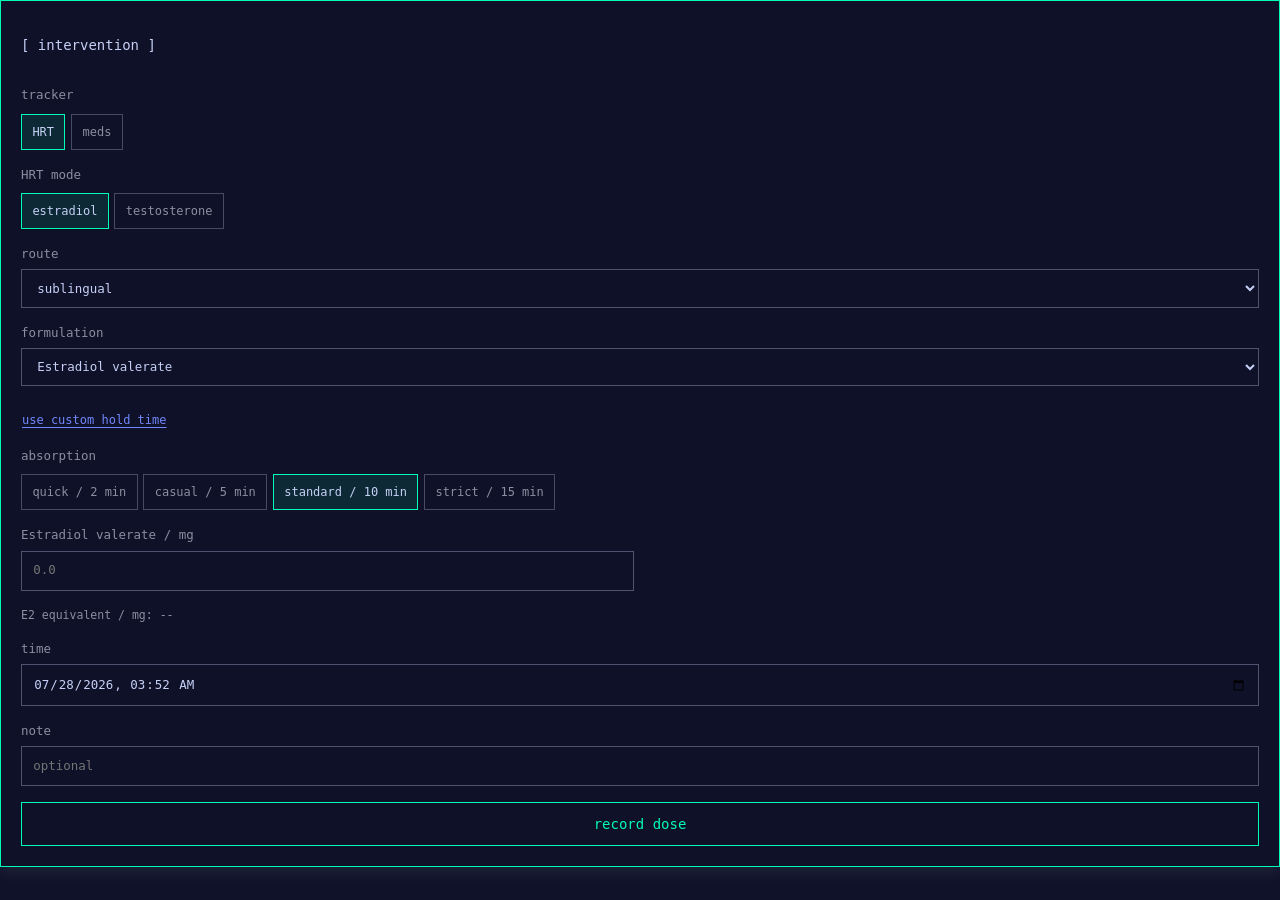
Scenario: HrtDoseForm route-dependent interactions › retains rate and total-dose values across the patch input toggle
Select "patch apply" in the dropdown labelled "route" at (640, 288), box [21,269,1259,308]
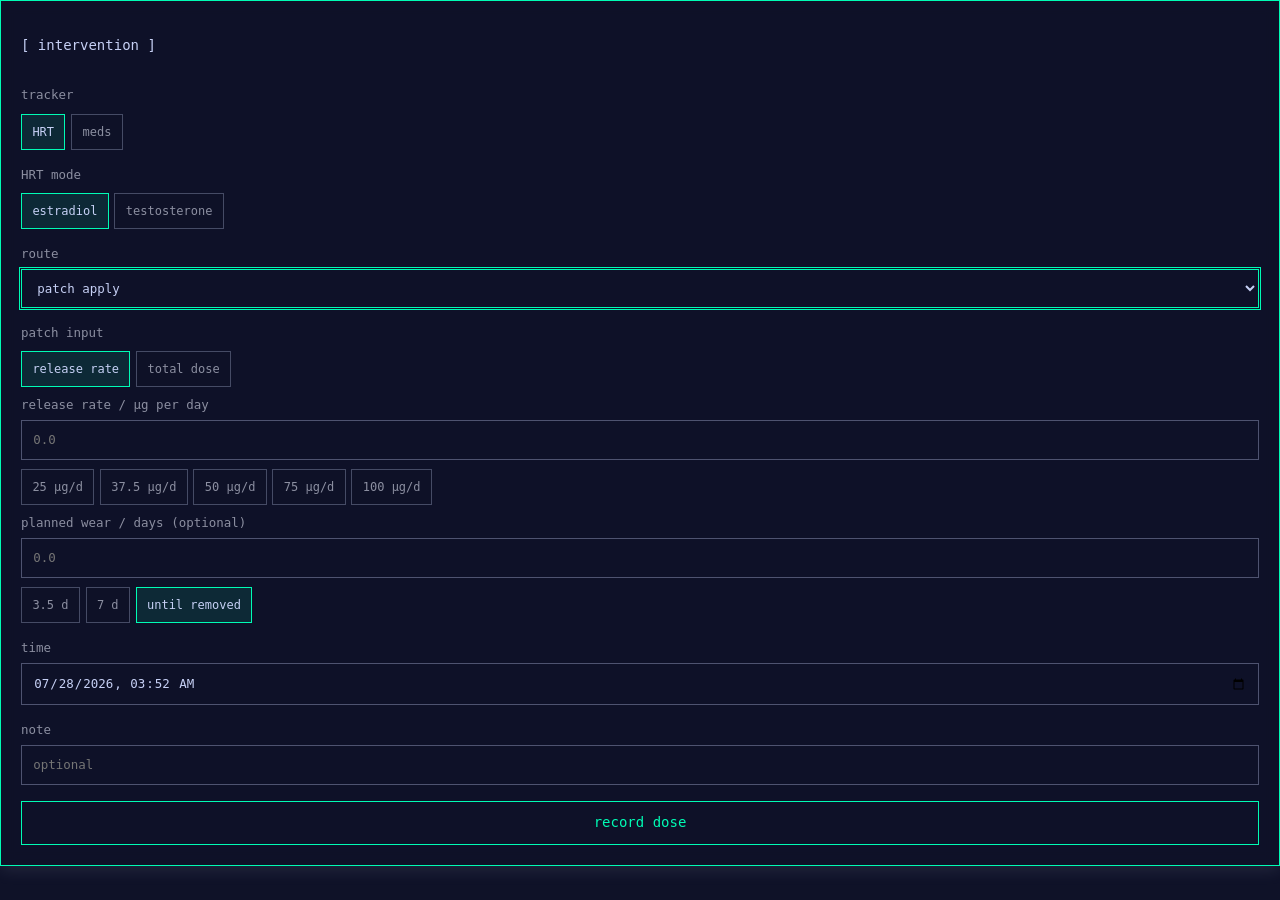
Type "50" into the number field labelled "release rate / µg per day" at (640, 440), box [21,420,1259,460]
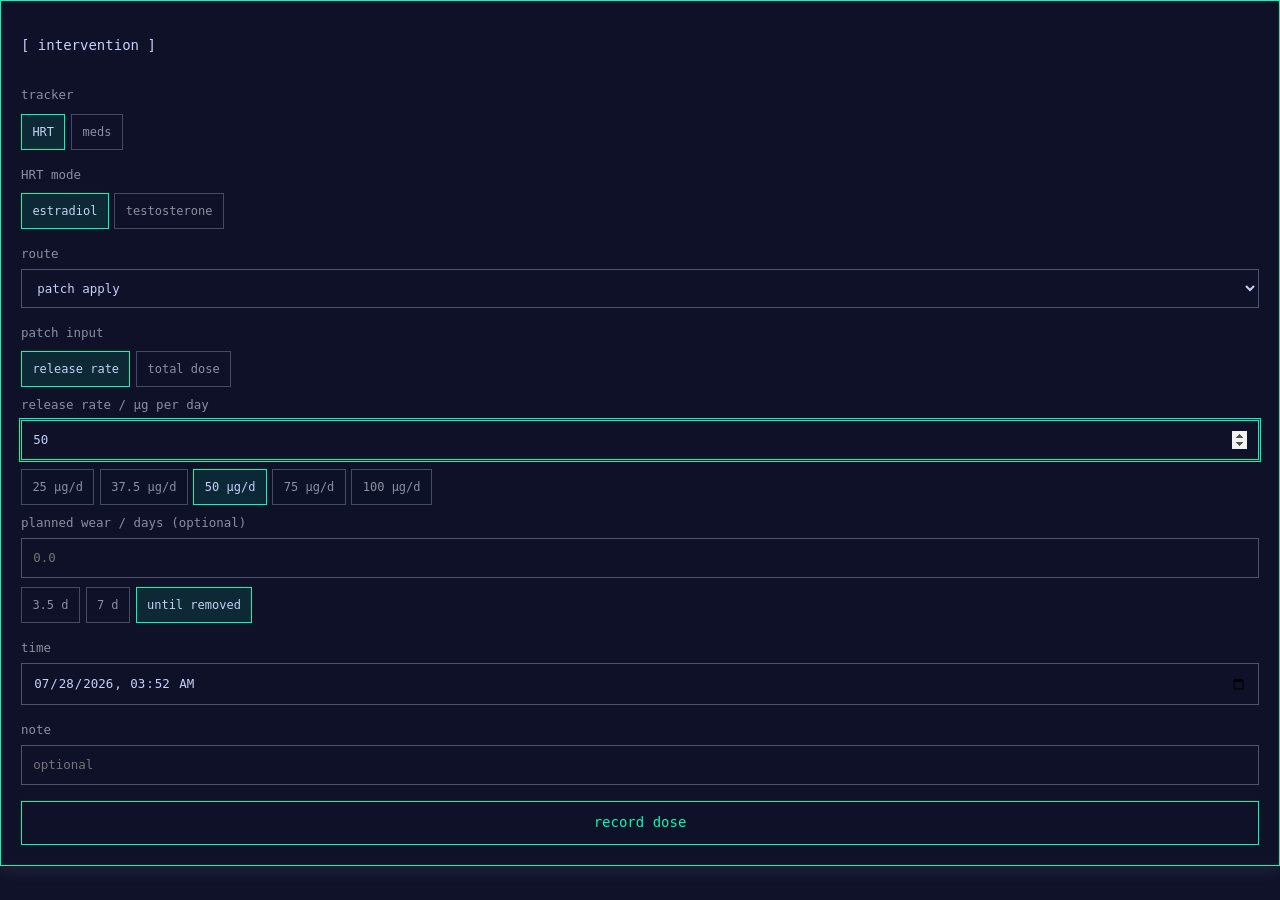
Click the button "total dose" at (184, 369), box [136,351,231,387]
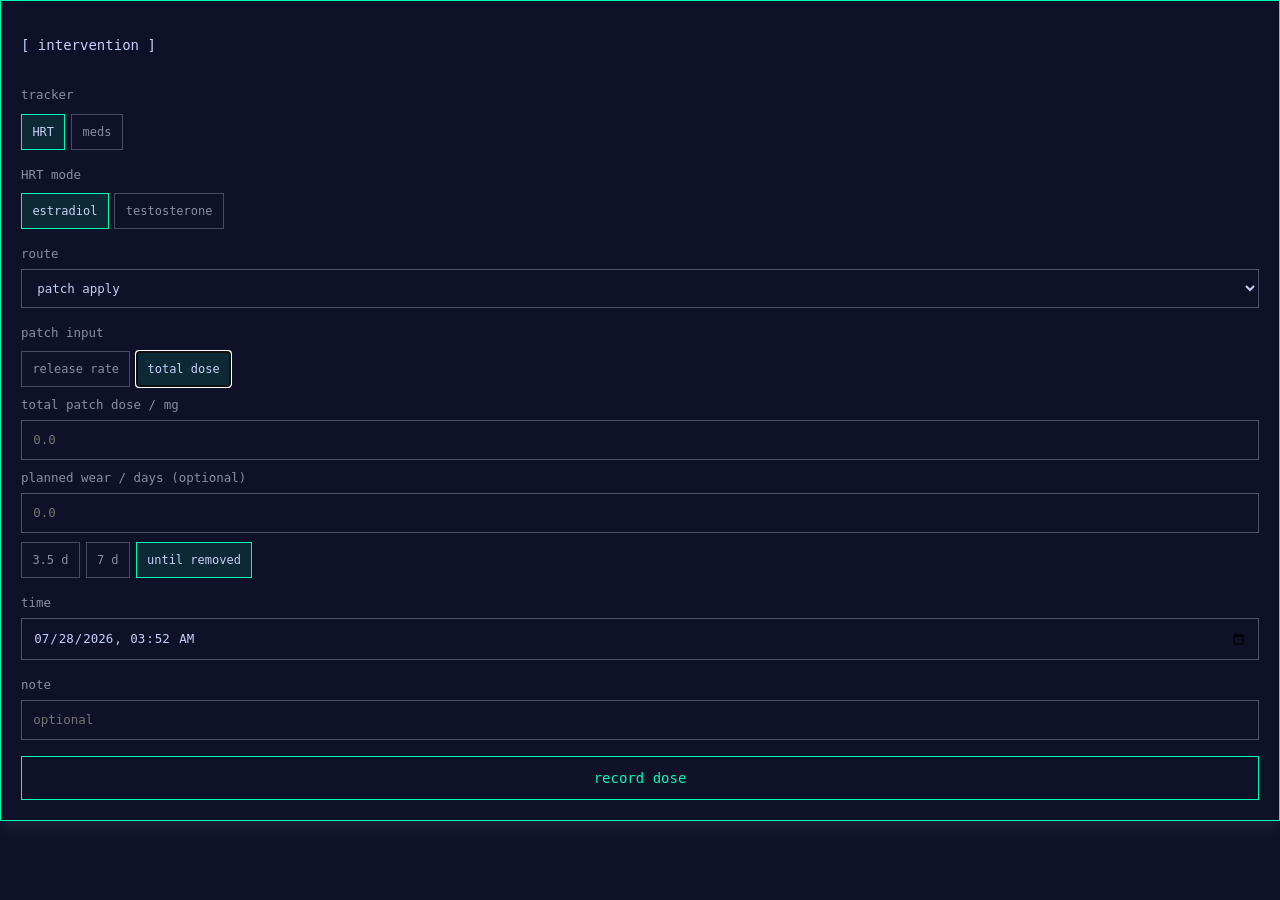
Type "4" into the number field labelled "total patch dose / mg" at (640, 440), box [21,420,1259,460]
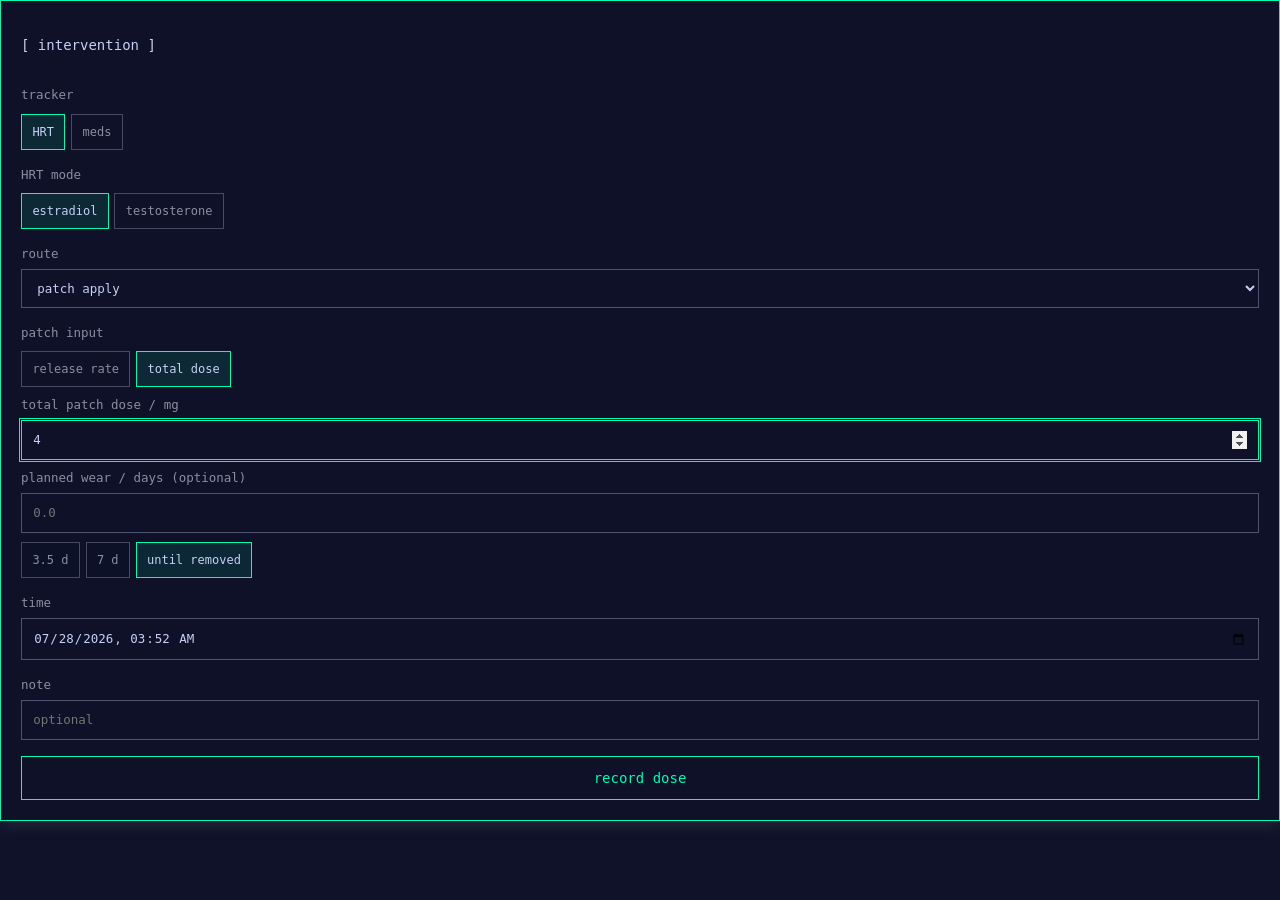
Click the button "release rate" at (76, 369), box [21,351,130,387]
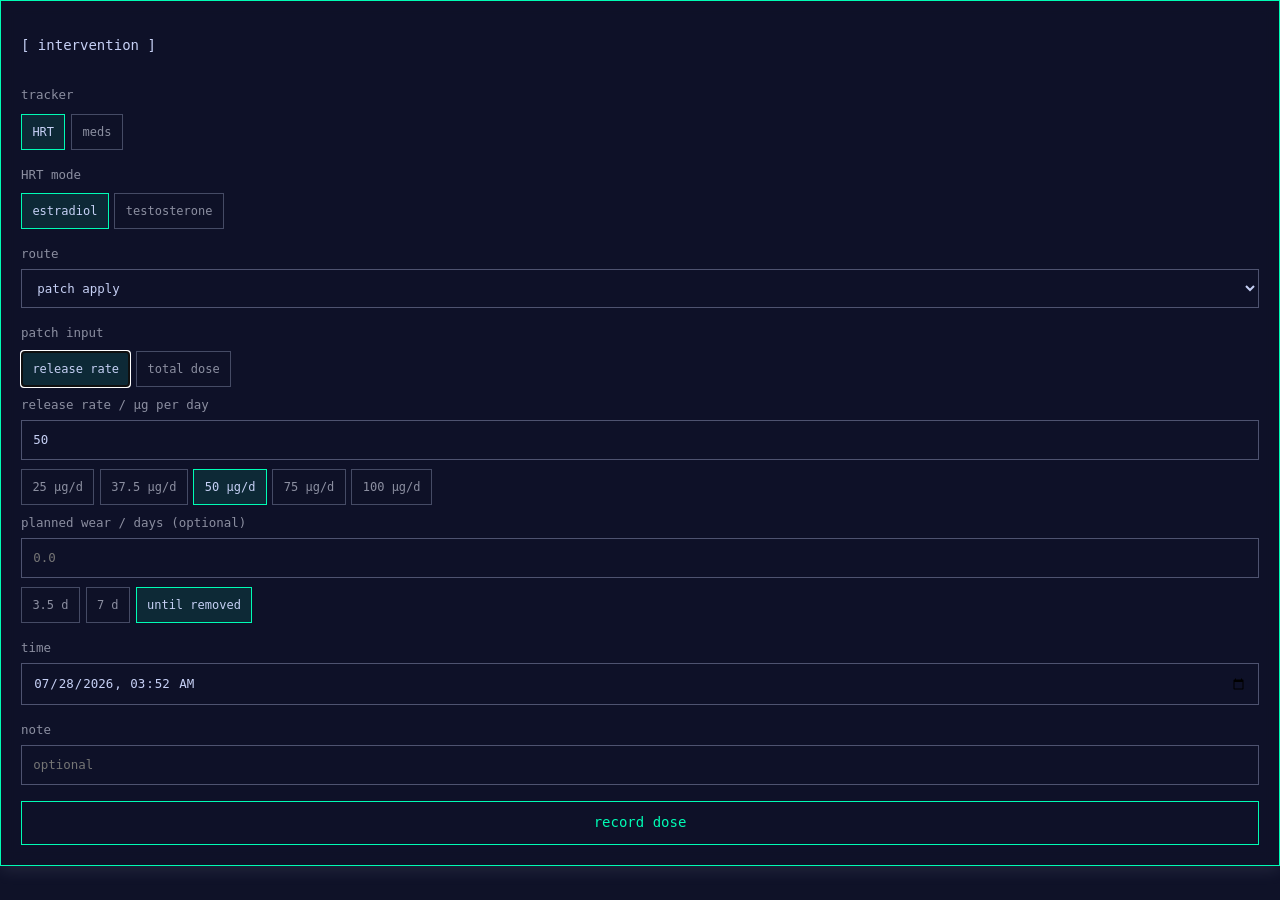
Result: the number field labelled "release rate / µg per day" holds "50" at [21,420,1259,460]
Click the button "total dose" at (184, 369), box [136,351,231,387]
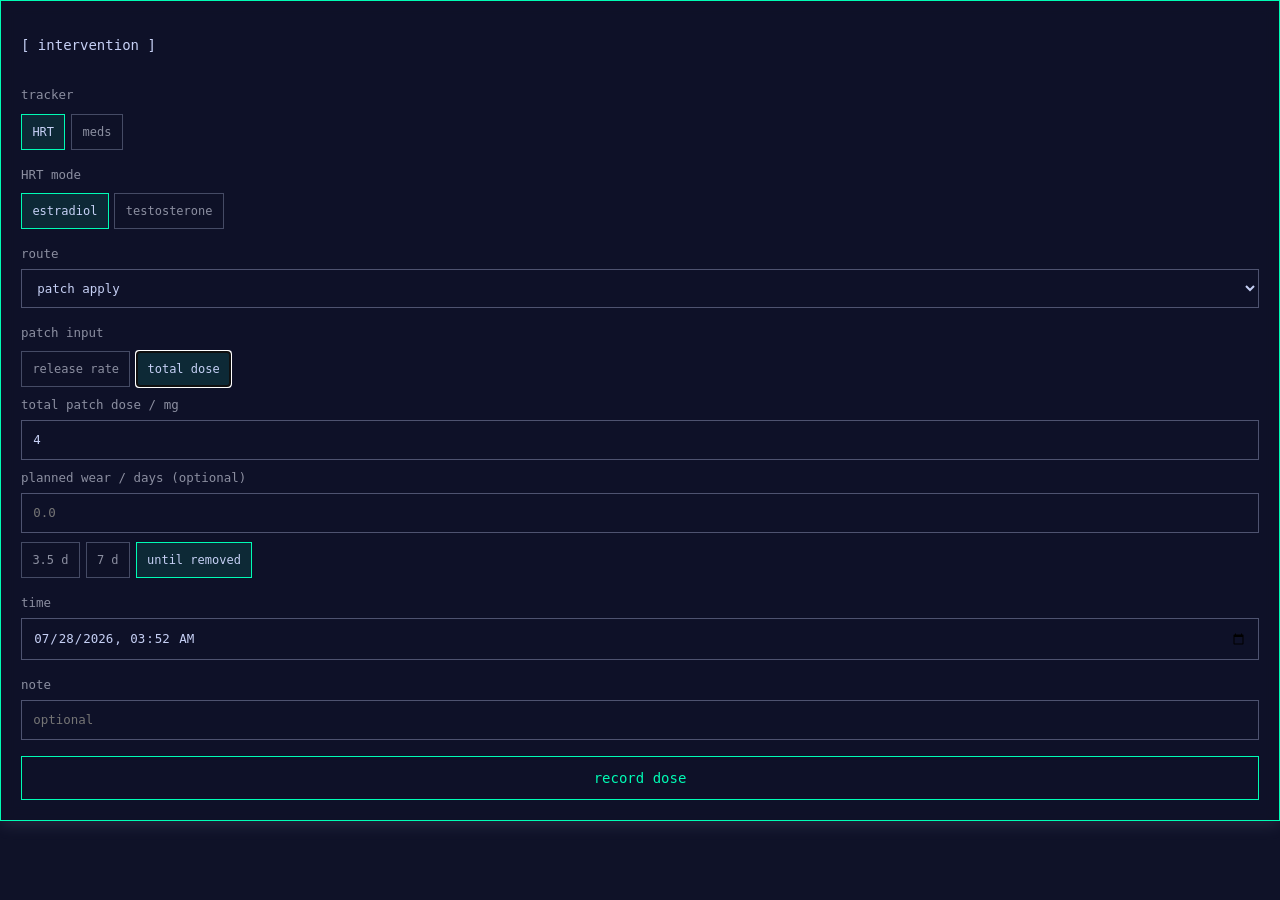
Result: the number field labelled "total patch dose / mg" holds "4" at [21,420,1259,460]
